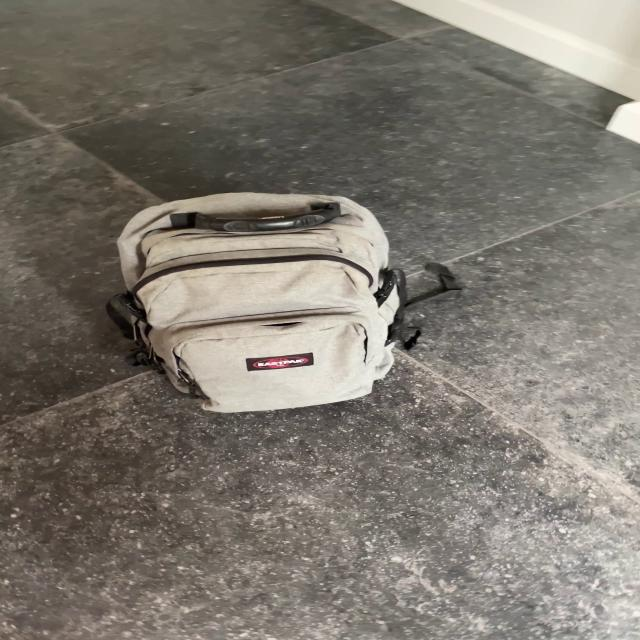backpack: (98, 184, 407, 416)
